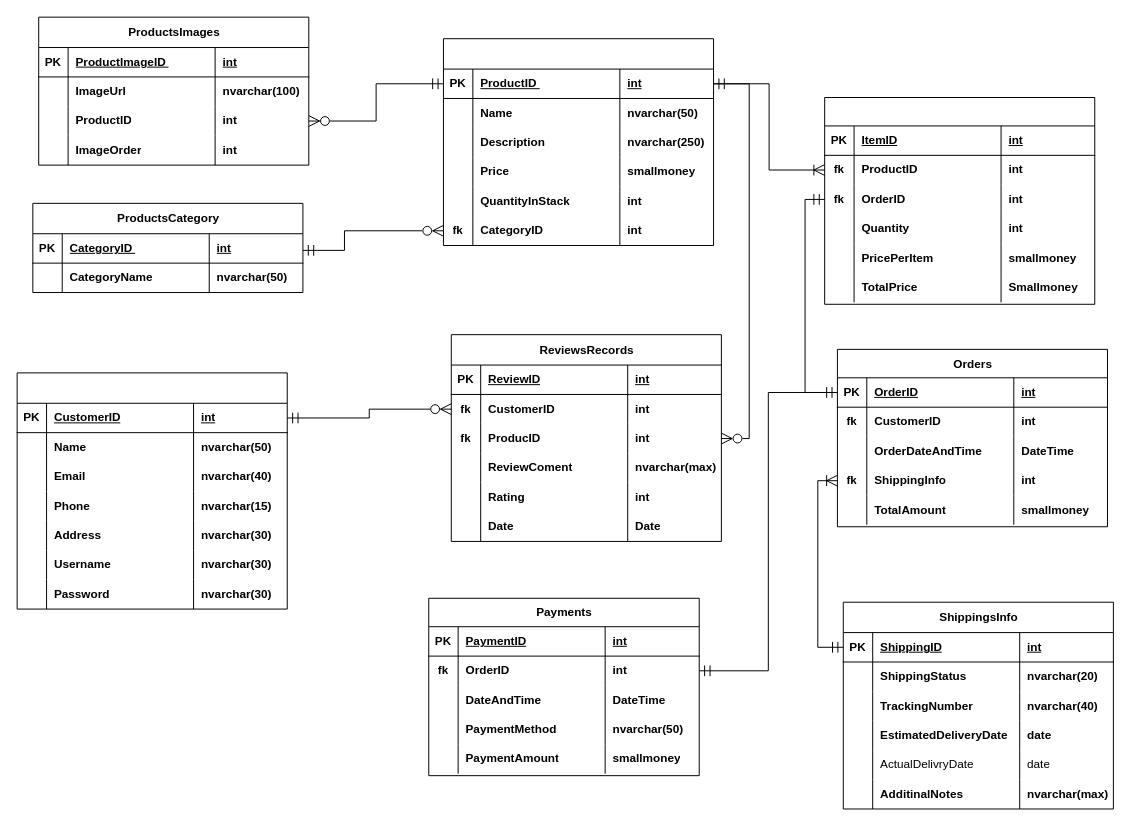
Image size: 1131x826. Some labels were removed from this diagram. The shapes that lost their labels are listed below. From the top down, each one's box as (x1, y1, x2, y2) in pixels, then its label:
(442, 38, 714, 245): ProductsCatalog
(824, 97, 1095, 304): OrderItems
(16, 372, 287, 609): Customers
